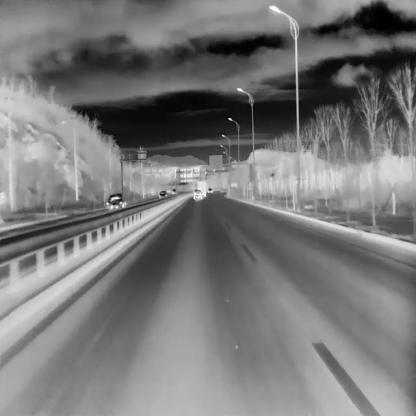car: (105, 192, 126, 210), (192, 188, 202, 200), (158, 190, 168, 198), (207, 187, 212, 192), (172, 188, 176, 193)
truck: (198, 180, 206, 196)
